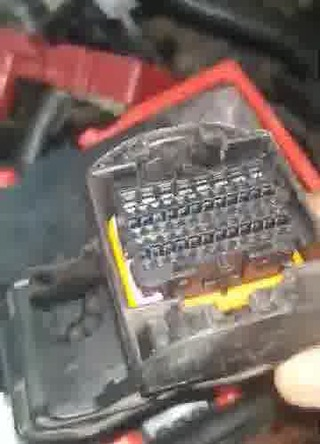connector: (83, 121, 320, 397)
